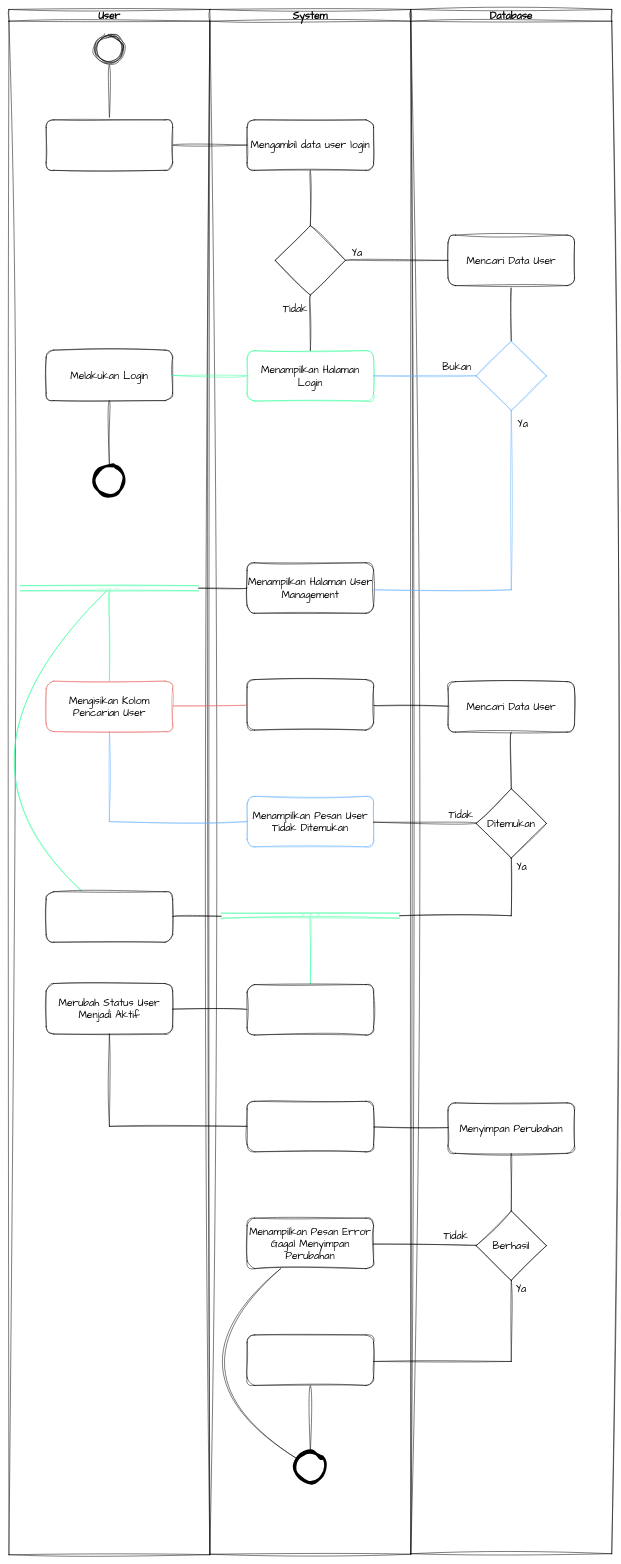
This 621x1564 diagram has some shape labels left out. Here are the shapes that lost their labels. From the top down, the centre of each, then its label:
At [109,144]: "Membuka Halaman User Management".
At [310,260]: "Terbaca".
At [511,376]: "Sebagai Admin".
At [310,704]: "Mengambil data kolom Pencarian User".
At [109,916]: "Memilih Data User".
At [310,1009]: "Menampilkan Data User Profile".
At [310,1126]: "Mengambil Data Status Baru".
At [310,1359]: "Menampilkan Pesan Perubahan Berhasil Disimpan".
